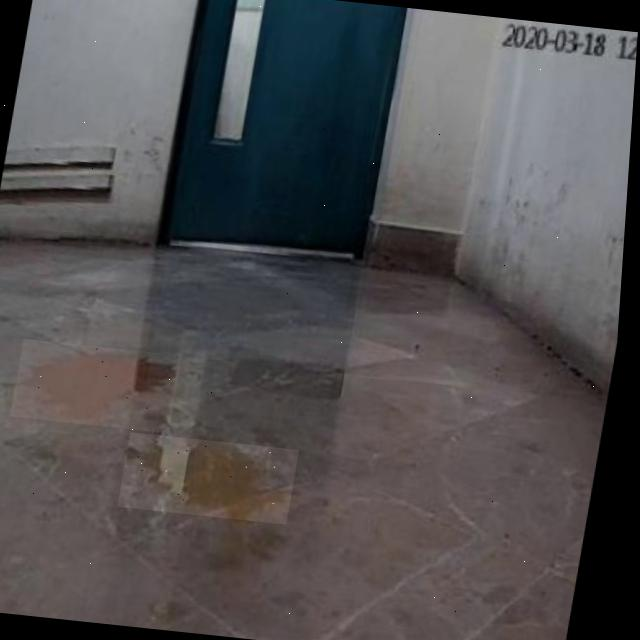spillage: (134, 440, 296, 517), (21, 348, 184, 421)
